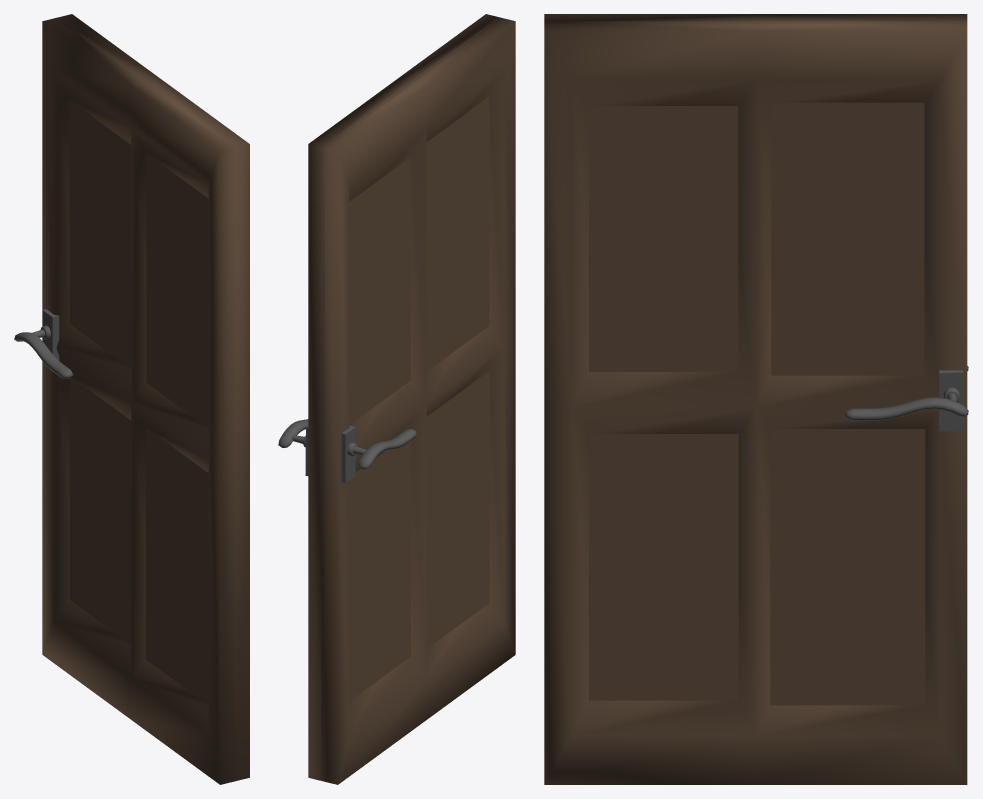
File: Door fbx.fbx
3 renders of one model, left to right at view 1: azimuth 30°, elevation 25°; view 2: azimuth 150°, elevation 25°; view 3: azimuth 270°, elevation 25°, orthographic. The views are drawn at different scales.
Visible parts, largest first — view 1: polySurface4, polySurface3, polySurface6; view 2: polySurface4, polySurface3, polySurface6; view 3: polySurface3, polySurface4, polySurface6.
Part boxes in pixels (x1,y1,x2,y2): polySurface4: [42, 17, 236, 784]; polySurface3: [56, 14, 249, 780]; polySurface6: [14, 309, 73, 378]; polySurface4: [321, 17, 515, 784]; polySurface3: [308, 14, 501, 780]; polySurface6: [278, 419, 417, 482]; polySurface3: [544, 21, 967, 784]; polySurface4: [544, 14, 967, 23]; polySurface6: [844, 366, 968, 431].
Size of the model in its own units: 1.98 by 13.09 by 6.68.
